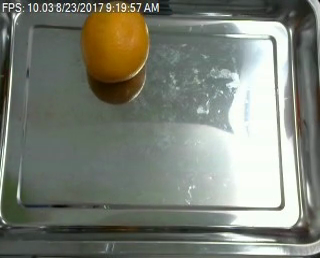Orange: (80, 13, 150, 82)
